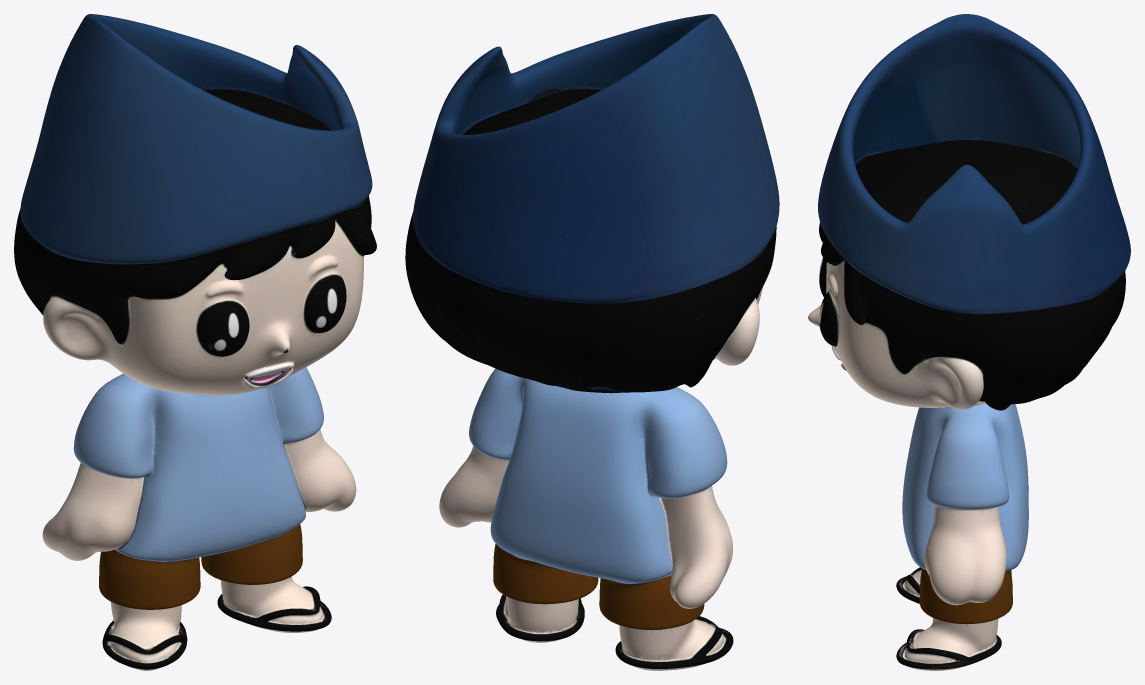
File: boy.glb
3 views of the same model, side by side, from view 1: azimuth 30°, elevation 25°; view 2: azimuth 150°, elevation 25°; view 3: azimuth 270°, elevation 25° (orthographic). The views are drawn at different scales.
Size of the model in its own units: 0.984 by 1.9 by 0.9676.
Materials: 1 (1 with a texture image).
